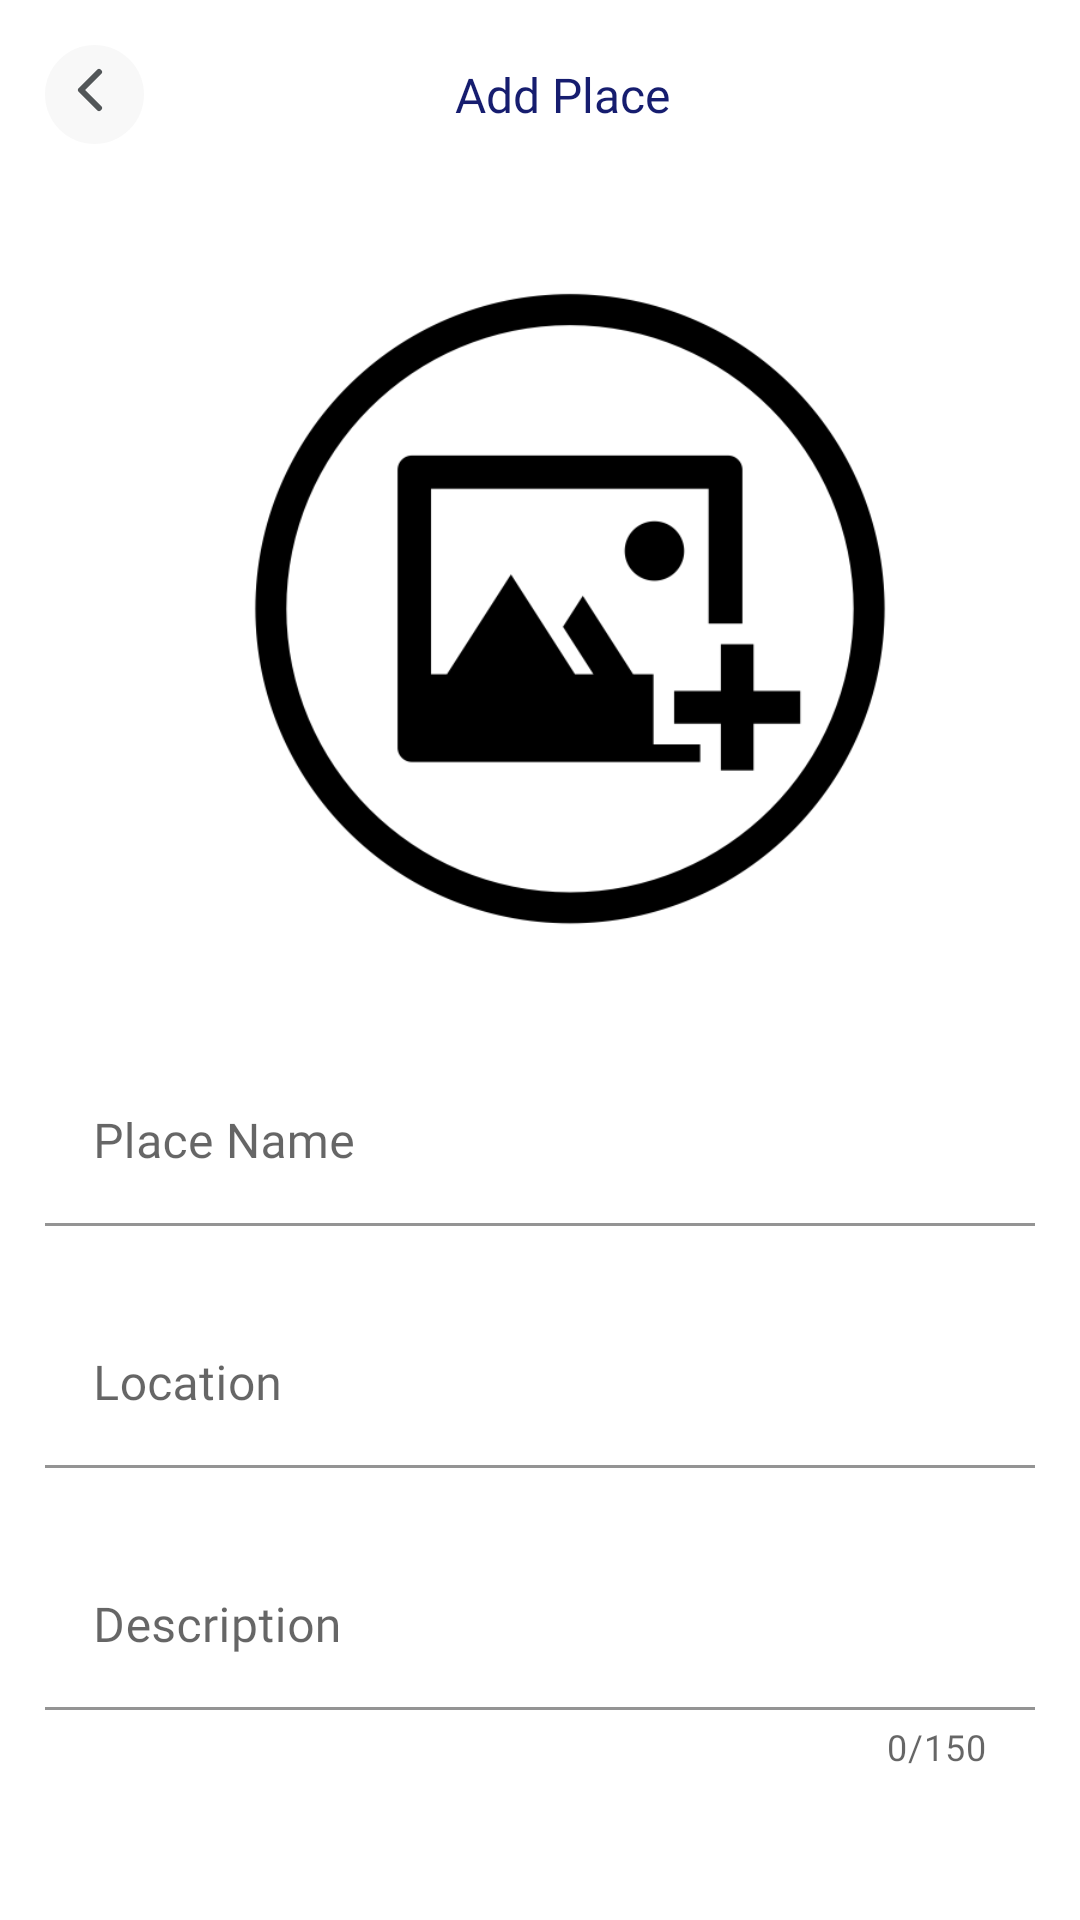

Icon bounding boxes for this 1080×1920 phone screenshot, format {"x1": x1, "y1": y1, "x2": x2, "y2": y2}:
back: {"x1": 78, "y1": 69, "x2": 102, "y2": 111}
